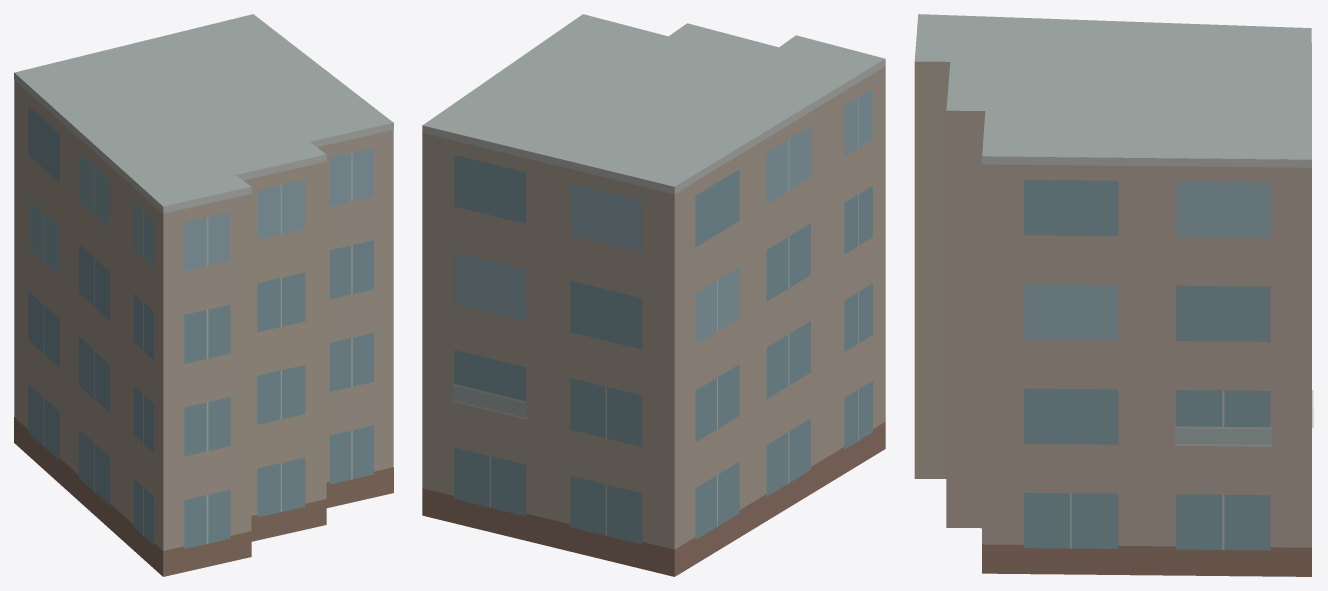
Rendered from survey-upis-32896856.glb.
3 views of the same model, side by side, from view 1: azimuth 30°, elevation 25°; view 2: azimuth 150°, elevation 25°; view 3: azimuth 270°, elevation 25° (orthographic). The views are drawn at different scales.
Parts seen in each view (by area): view 1: survey-upis-32896856.tmp; view 2: survey-upis-32896856.tmp; view 3: survey-upis-32896856.tmp.
Part boxes in pixels (left/top/right/bottom): survey-upis-32896856.tmp: left=14, top=14, right=393, bottom=576; survey-upis-32896856.tmp: left=422, top=14, right=885, bottom=576; survey-upis-32896856.tmp: left=914, top=14, right=1313, bottom=576.
Bounding box in the file's own units: 9.6 × 12.8 × 11.1.
